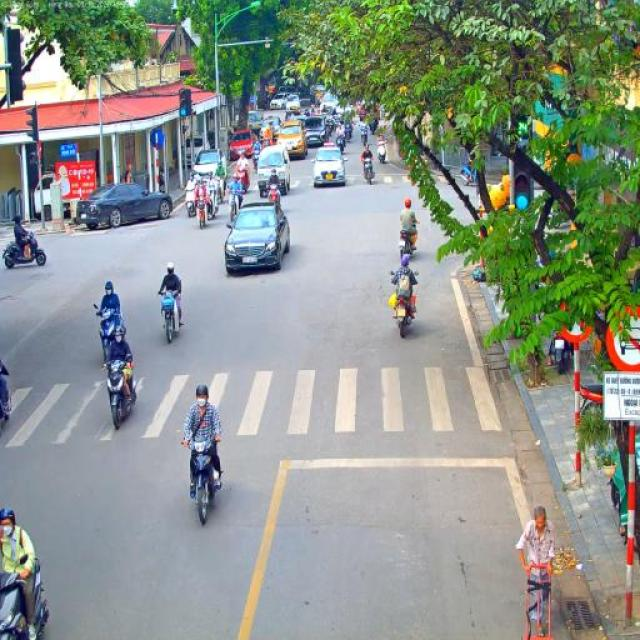car: (224, 201, 291, 275), (76, 180, 173, 229), (257, 144, 291, 197), (311, 142, 348, 188), (191, 148, 229, 183), (277, 120, 307, 160), (229, 129, 255, 162), (300, 114, 326, 147), (246, 109, 264, 139), (260, 116, 282, 140), (336, 98, 353, 121), (285, 94, 301, 117), (321, 92, 337, 113), (270, 92, 288, 110), (313, 84, 328, 105), (280, 114, 304, 127)
motorcycle: (0, 554, 50, 640), (180, 435, 222, 525), (101, 359, 138, 430), (389, 271, 419, 338), (93, 303, 125, 361), (2, 230, 47, 269), (157, 290, 184, 344), (578, 376, 604, 419), (551, 330, 573, 375), (398, 221, 419, 261), (0, 380, 14, 435), (193, 194, 211, 230), (226, 189, 243, 227), (460, 159, 480, 186), (235, 166, 250, 194), (204, 186, 216, 220), (212, 177, 224, 211), (362, 156, 376, 185), (183, 188, 197, 216), (266, 183, 280, 206), (376, 140, 388, 164), (252, 151, 262, 169), (336, 134, 346, 152), (358, 129, 368, 147), (325, 117, 334, 137), (345, 125, 354, 141), (262, 138, 272, 148)
truck: (182, 136, 206, 170)
